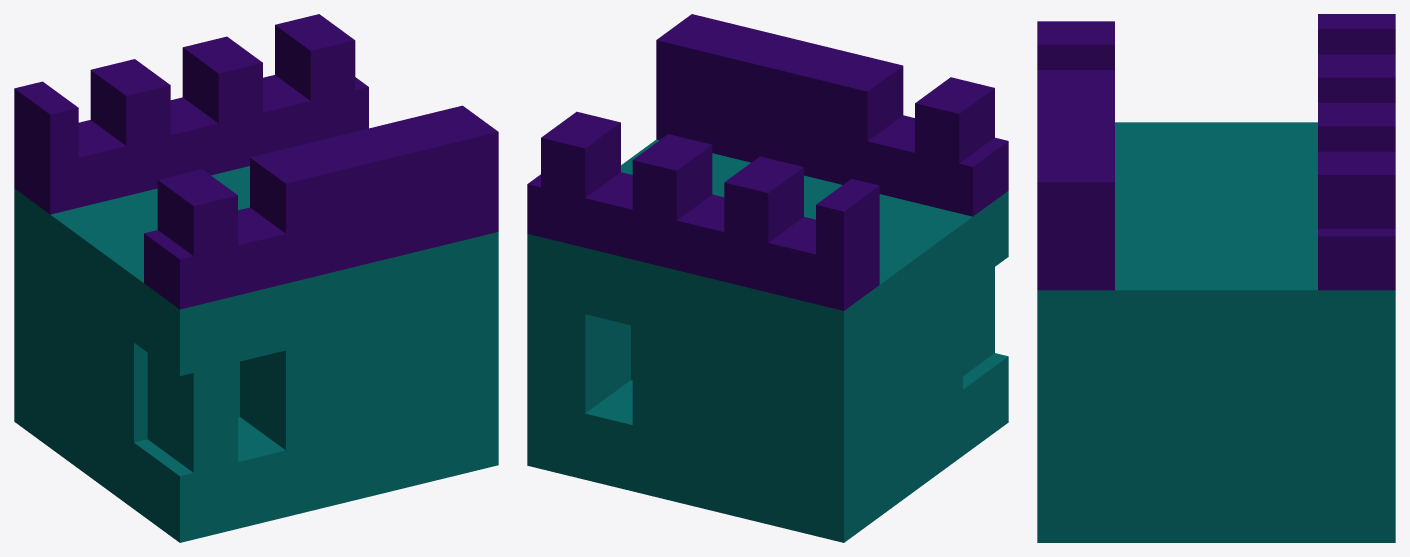
Rendered from Roof_02_H_F.fbx.
The picture shows the model from 3 angles, left to right: view 1: azimuth 30°, elevation 25°; view 2: azimuth 150°, elevation 25°; view 3: azimuth 270°, elevation 25°; orthographic projection. The views are drawn at different scales.
Parts seen in each view (by area): view 1: 3, 1, 4, 2; view 2: 4, 2, 3, 1; view 3: 1, 2, 4, 3.
Boxes of the visible parts, x1,y1,x2,y2 form: 3: (97, 144, 339, 542); 1: (303, 105, 498, 503); 4: (14, 59, 249, 481); 2: (174, 14, 368, 204); 4: (685, 156, 926, 542); 2: (527, 111, 720, 504); 3: (804, 52, 1008, 482); 1: (621, 14, 849, 197); 1: (1037, 98, 1216, 542); 2: (1216, 103, 1395, 542); 4: (1216, 14, 1395, 206); 3: (1037, 21, 1216, 206).
Size of the model in its own units: 200 by 200 by 180.
